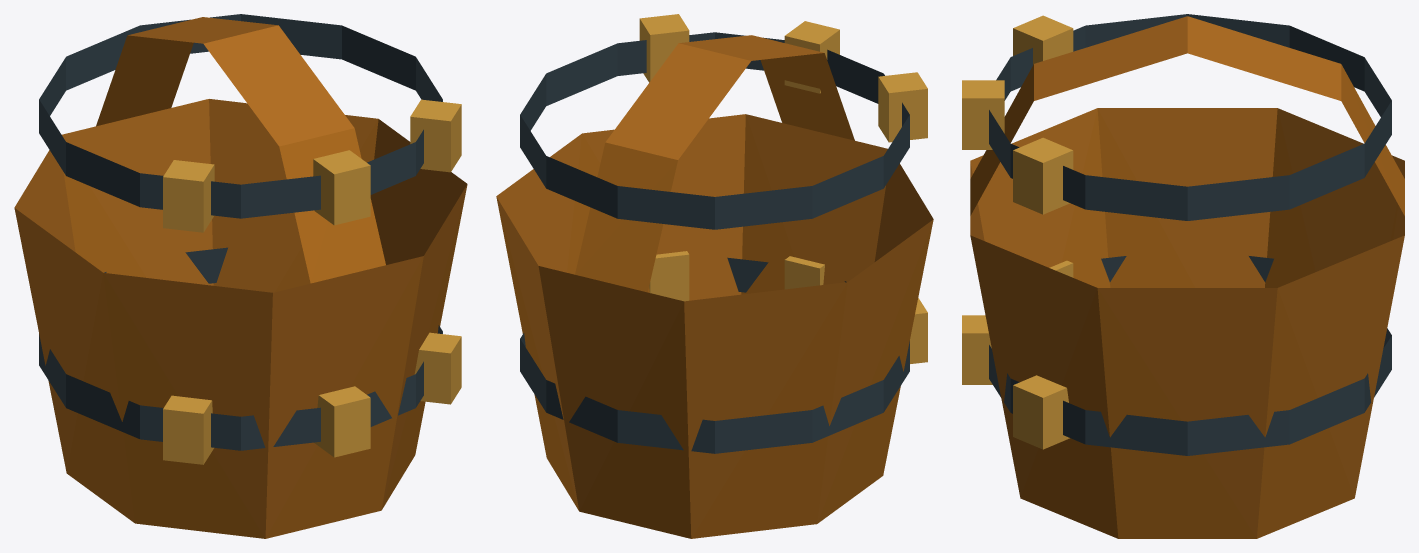
The model's file is bucket-butter.glb.
3 views of the same model, side by side, from view 1: azimuth 30°, elevation 25°; view 2: azimuth 150°, elevation 25°; view 3: azimuth 270°, elevation 25° (orthographic). The views are drawn at different scales.
Parts seen in each view (by area): view 1: bucket-butter; view 2: bucket-butter; view 3: bucket-butter.
Boxes of the visible parts, x1,y1,x2,y2 form: bucket-butter: (14,14,467,538); bucket-butter: (496,14,933,538); bucket-butter: (962,14,1404,538).
Bounding box in the file's own units: 0.47 × 0.53 × 0.4891.
